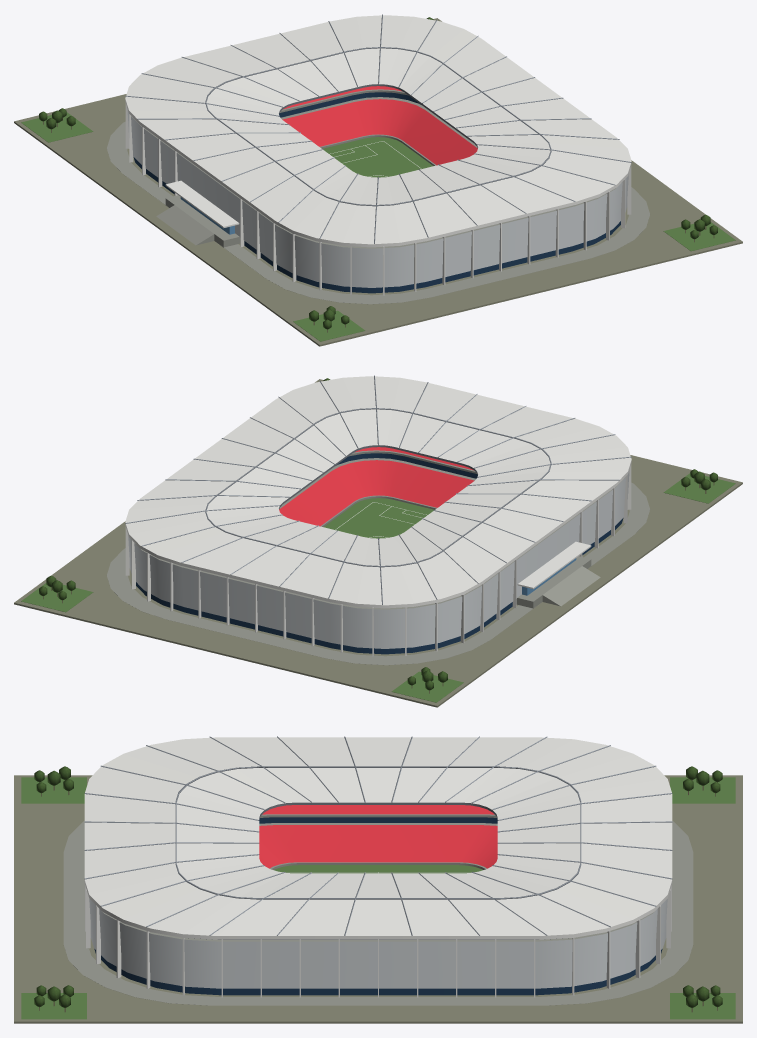
File: top-prebuilt.fbx
3 views of the same model, one above another, from view 1: azimuth 30°, elevation 25°; view 2: azimuth 150°, elevation 25°; view 3: azimuth 270°, elevation 25° (orthographic). The views are drawn at different scales.
Visible parts, largest first — view 1: a1093/0/top-prebuilt; view 2: a1093/0/top-prebuilt; view 3: a1093/0/top-prebuilt.
Part boxes in pixels (x1,y1,x2,y2): a1093/0/top-prebuilt: (14,14,742,346); a1093/0/top-prebuilt: (14,375,742,707); a1093/0/top-prebuilt: (14,736,742,1023).
Bounding box in the file's own units: 320 × 41.2 × 400.
